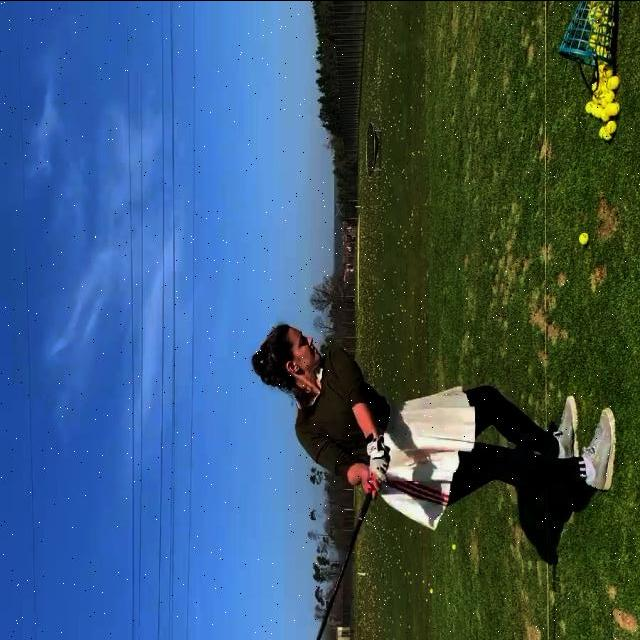golf ball: (579, 230, 589, 244)
golf club-handle: (317, 442, 391, 640)
